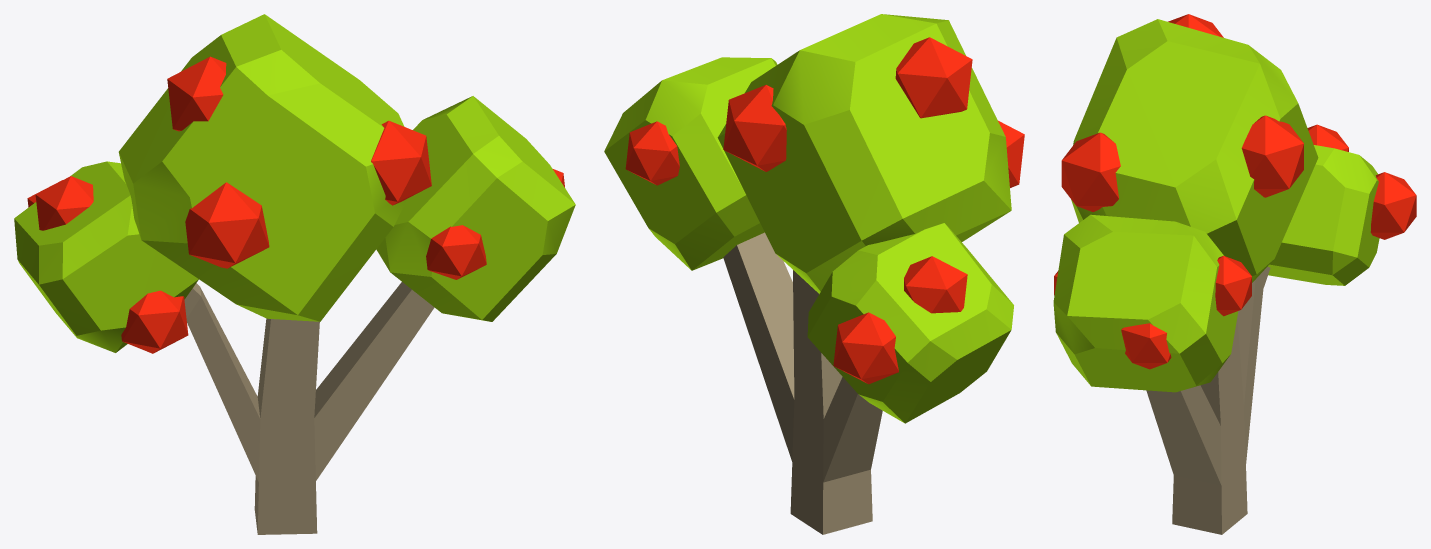
The model's file is tree_w_food_t_01.fbx.
The picture shows the model from 3 angles, left to right: view 1: azimuth 30°, elevation 25°; view 2: azimuth 150°, elevation 25°; view 3: azimuth 270°, elevation 25°; orthographic projection. The views are drawn at different scales.
Visible parts, largest first — view 1: tree_w_food_t_01, foot_t_01_01, foot_t_01_07, foot_t_01_04, foot_t_01_02, foot_t_01_09, foot_t_01_05; view 2: tree_w_food_t_01, foot_t_01_02, foot_t_01_06, foot_t_01_03, foot_t_01_05, foot_t_01_10, foot_t_01_01; view 3: tree_w_food_t_01, foot_t_01_06, foot_t_01_07, foot_t_01_03, foot_t_01_10, foot_t_01_08, foot_t_01_05, foot_t_01_02.
Part boxes in pixels (<box>): tree_w_food_t_01: <box>14,14,575,534</box>; foot_t_01_01: <box>185,182,269,268</box>; foot_t_01_07: <box>371,120,431,205</box>; foot_t_01_04: <box>121,290,188,353</box>; foot_t_01_02: <box>167,56,226,131</box>; foot_t_01_09: <box>426,225,486,279</box>; foot_t_01_05: <box>35,176,93,230</box>; tree_w_food_t_01: <box>604,14,1013,534</box>; foot_t_01_02: <box>895,37,972,118</box>; foot_t_01_06: <box>723,85,786,171</box>; foot_t_01_03: <box>833,312,898,384</box>; foot_t_01_05: <box>904,256,967,313</box>; foot_t_01_10: <box>625,121,679,185</box>; foot_t_01_01: <box>998,120,1024,187</box>; tree_w_food_t_01: <box>1053,19,1379,534</box>; foot_t_01_06: <box>1241,115,1303,197</box>; foot_t_01_07: <box>1061,132,1120,211</box>; foot_t_01_03: <box>1370,172,1416,239</box>; foot_t_01_10: <box>1215,255,1251,316</box>; foot_t_01_08: <box>1121,323,1171,369</box>; foot_t_01_05: <box>1307,124,1348,151</box>; foot_t_01_02: <box>1168,14,1223,37</box>.
Bounding box in the file's own units: 1096 × 1129 × 798.
